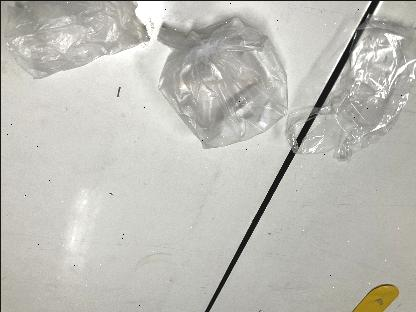Others: (142, 12, 302, 154), (284, 16, 410, 168), (0, 0, 158, 82)
